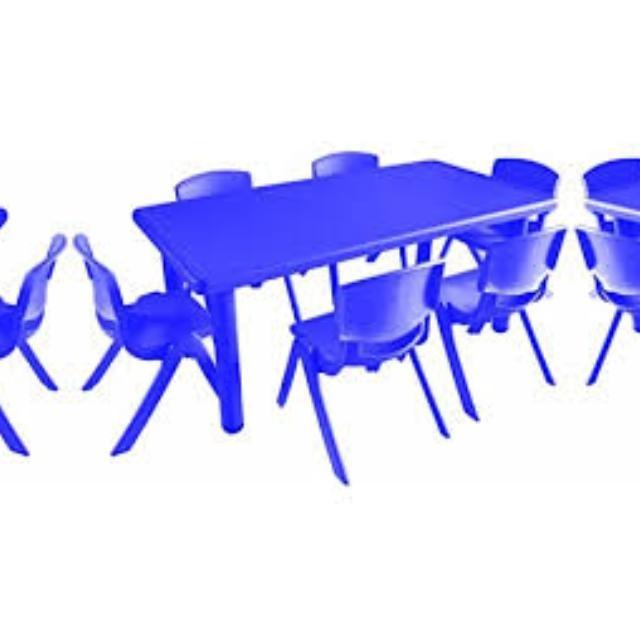obstacle: (74, 68, 570, 510), (570, 67, 640, 510), (0, 67, 64, 510)
